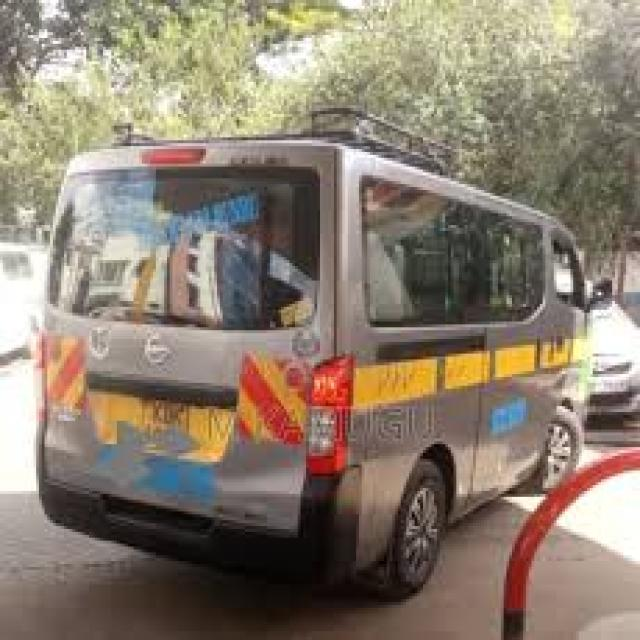matatu: (11, 55, 628, 617)
